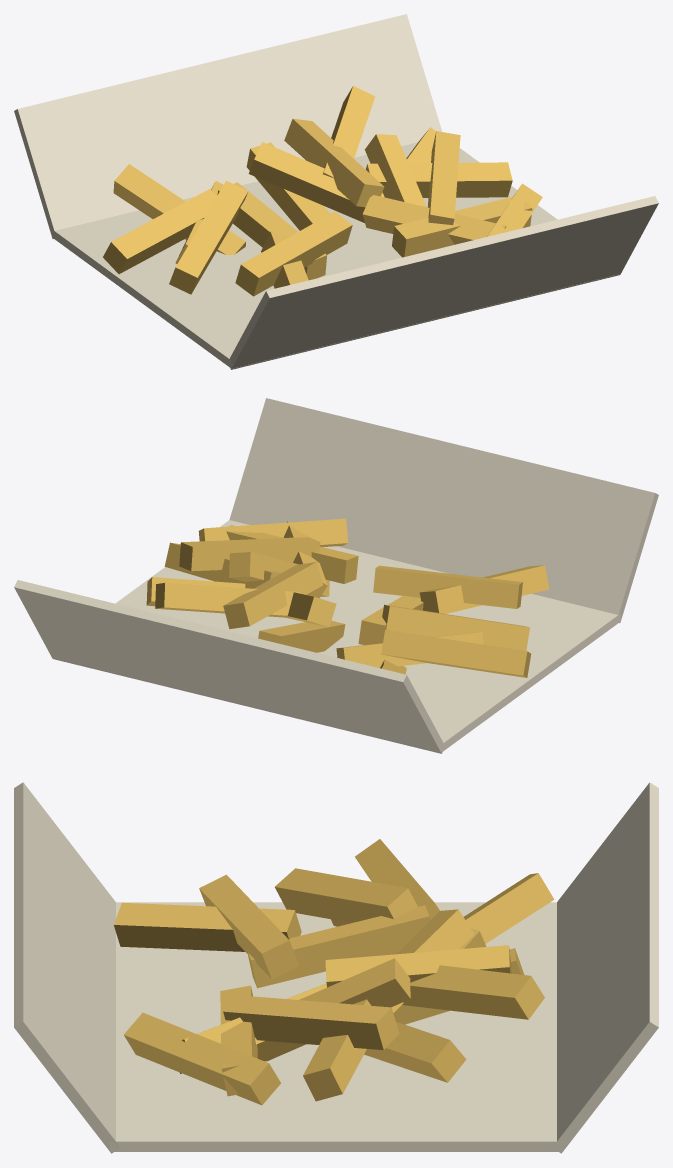
The model's file is chips.glb.
The picture shows the model from 3 angles, top to bottom: view 1: azimuth 30°, elevation 25°; view 2: azimuth 150°, elevation 25°; view 3: azimuth 270°, elevation 25°; orthographic projection. The views are drawn at different scales.
Visible parts, largest first — view 1: chips; view 2: chips; view 3: chips.
Boxes of the visible parts, <box> form: chips: <box>14,14,658,369</box>; chips: <box>14,398,658,753</box>; chips: <box>14,782,658,1153</box>.
Bounding box in the file's own units: 0.2081 × 0.0568 × 0.2277.
